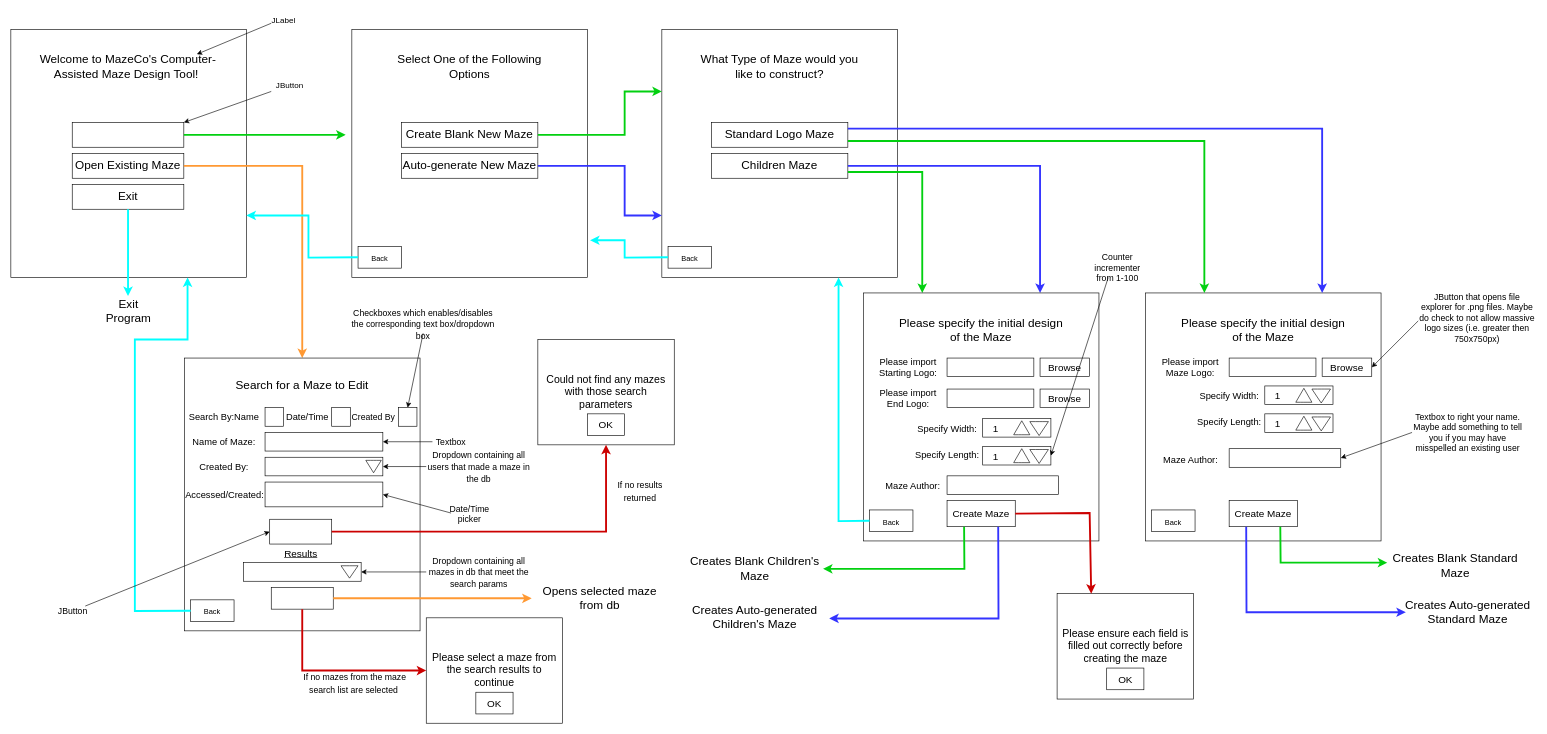
Image size: 1547x734. Some labels were removed from this diagram. The shapes that lost their labels are listed below. From the top down, each one's centre as x and y in pixels, then its label:
(128,134): Create New Maze
(323,494): DD/MM/YYYY-DD/MM/YYYY
(300,531): Search
(302,598): Select Maze
